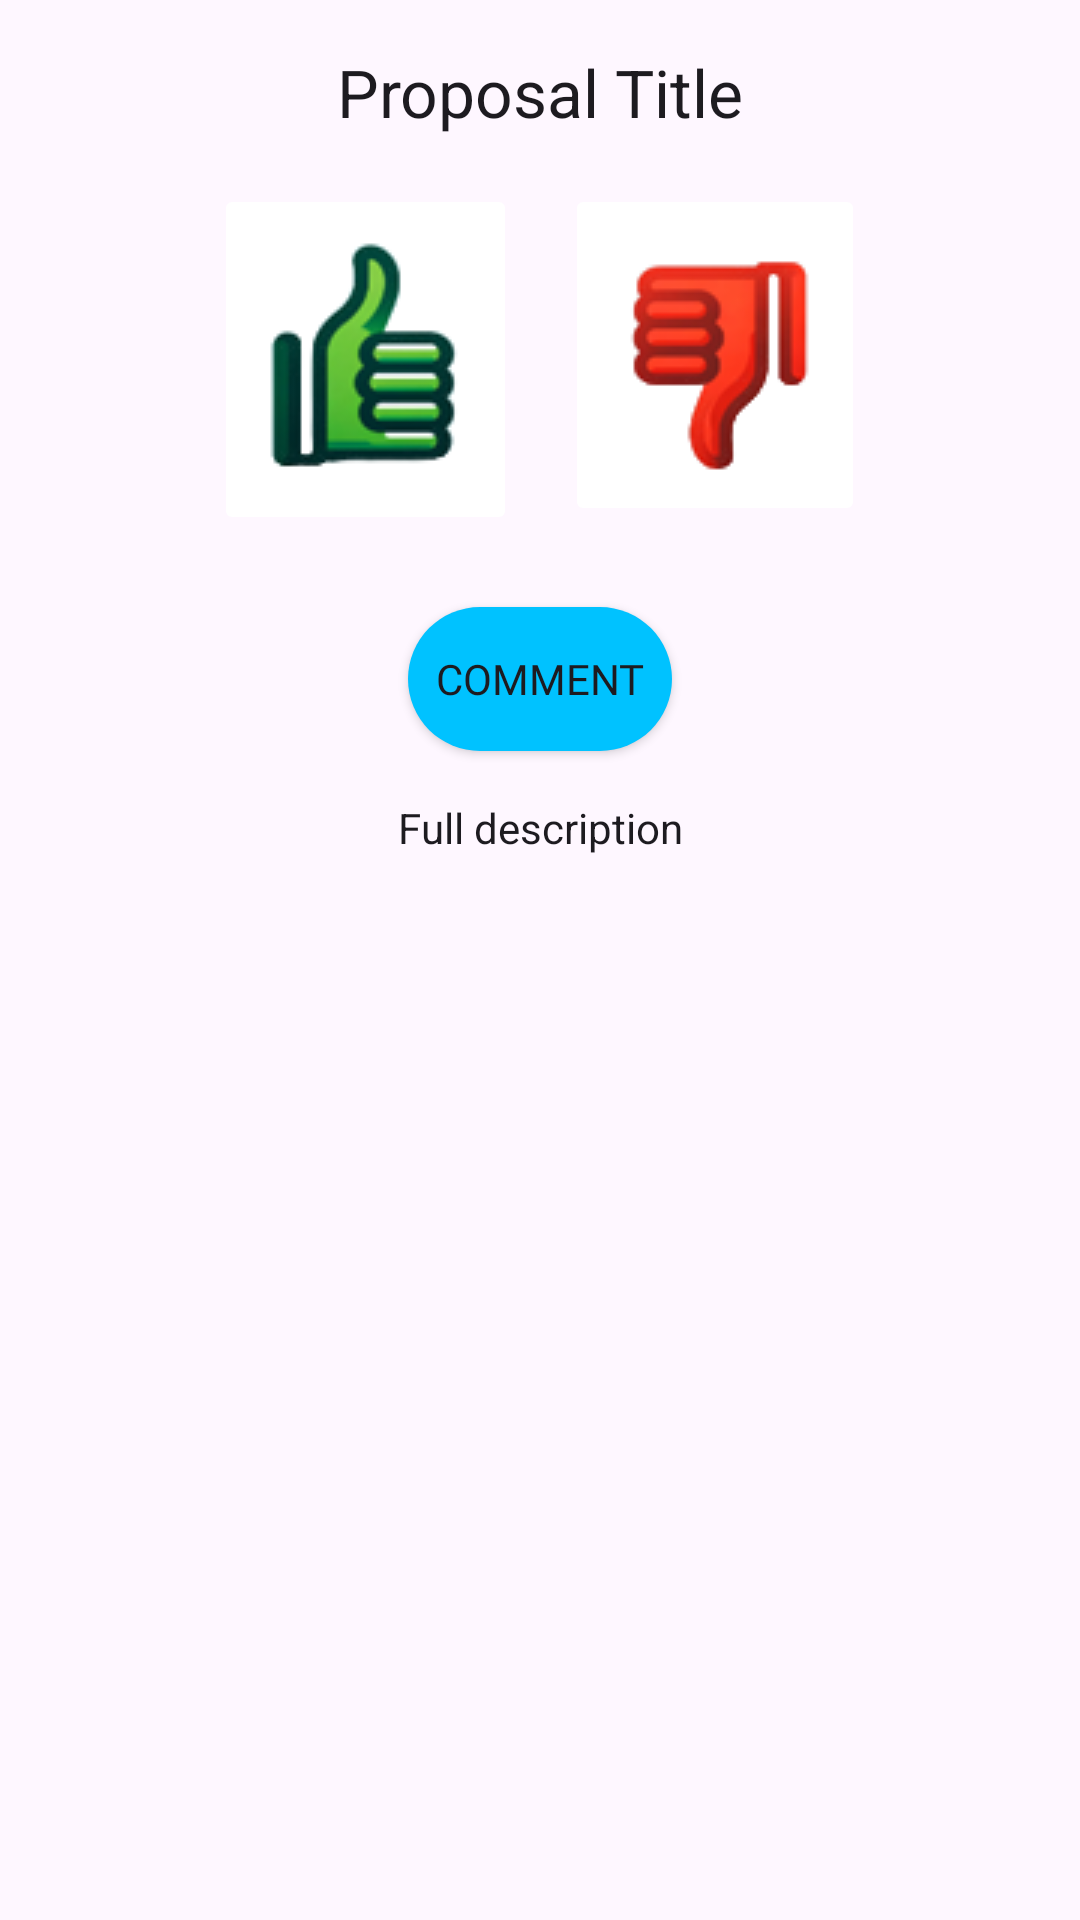

Named icons in this screenshot (1080 x 1920) and their bounding boxes, (x1, y1, x2, y2):
Approve: (270, 243, 456, 467)
Nope: (631, 261, 809, 470)
